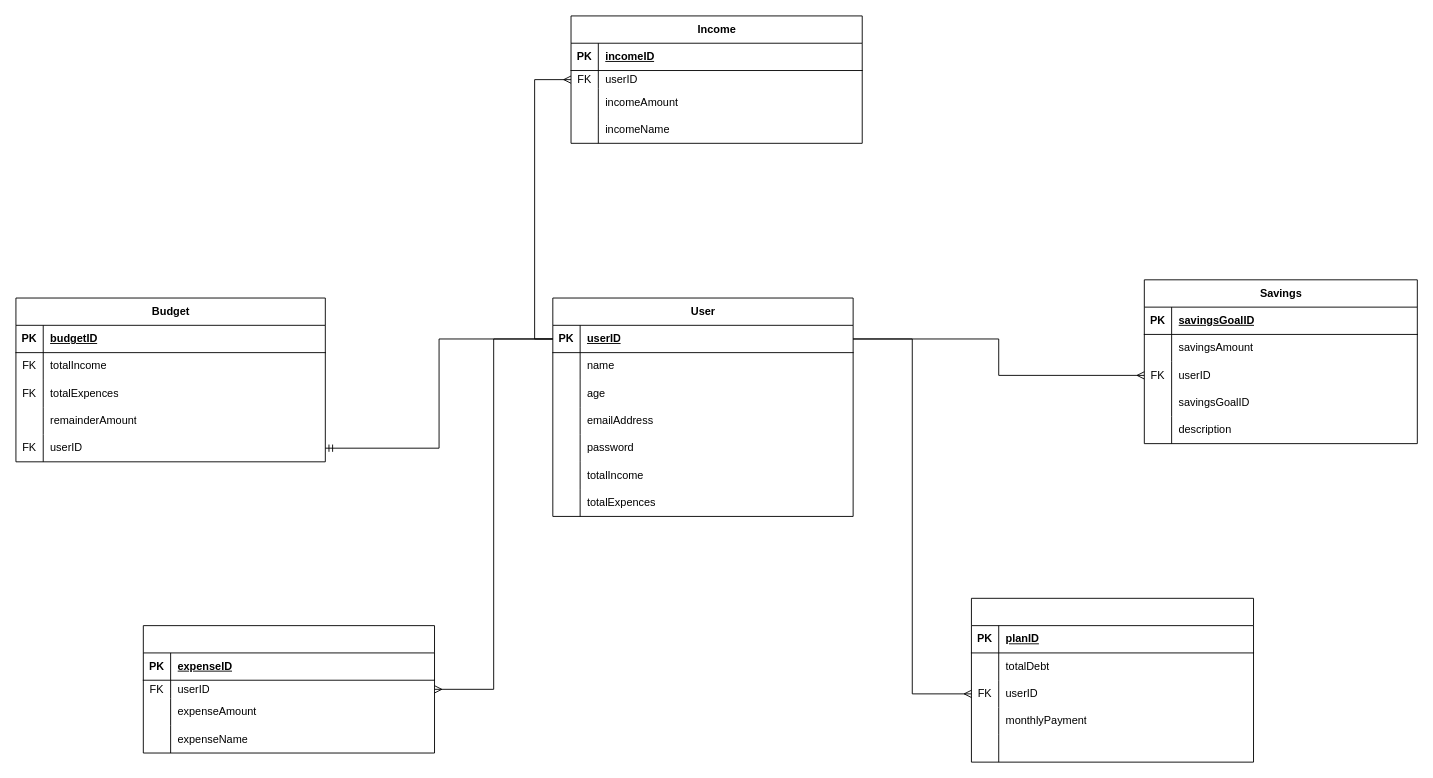
The diagram is 1433 pixels wide and 778 high, and some of its shapes have lost their labels. The box of each missing label's shape, as (x1, y1, x2, y2) in pixels:
Expenses: (142, 625, 435, 753)
Repayment Plan: (971, 597, 1254, 762)
